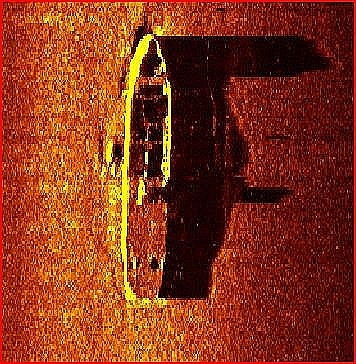ship: (102, 31, 172, 308)
